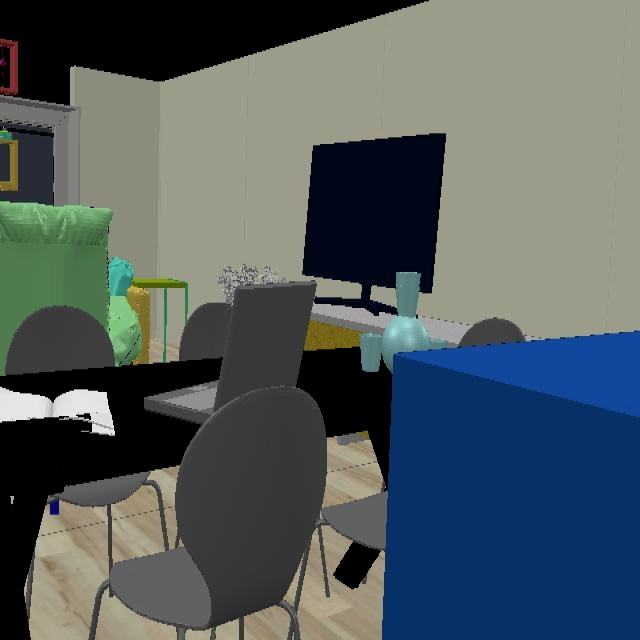book: (0, 387, 112, 425)
chair: (110, 387, 388, 631), (5, 305, 115, 375), (178, 304, 231, 361)
laptop: (143, 283, 307, 425)
monitor: (303, 133, 447, 293)
sofa: (0, 201, 141, 377)
table: (0, 359, 222, 553), (297, 348, 392, 480)
